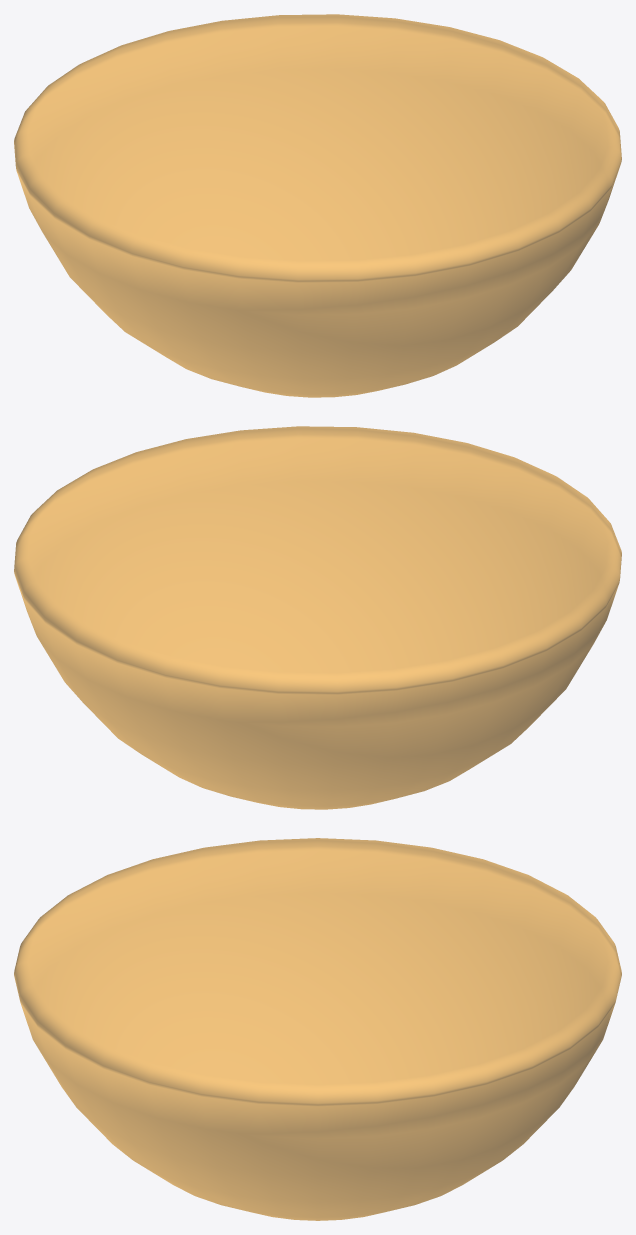
The model's file is Soup.glb.
3 views of the same model, one above another, from view 1: azimuth 30°, elevation 25°; view 2: azimuth 150°, elevation 25°; view 3: azimuth 270°, elevation 25° (orthographic).
Visible parts, largest first — view 1: Sphere.001; view 2: Sphere.001; view 3: Sphere.001.
Boxes of the visible parts, x1=… form: Sphere.001: x1=14, y1=14, x2=621, y2=397; Sphere.001: x1=14, y1=426, x2=621, y2=809; Sphere.001: x1=14, y1=838, x2=621, y2=1220.
Bounding box in the file's own units: 1.64 × 0.684 × 1.64.
